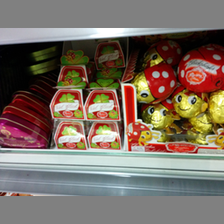chocolate: (178, 44, 224, 94), (124, 66, 174, 103), (1, 114, 49, 149), (82, 88, 122, 120), (44, 89, 88, 118), (52, 118, 86, 151), (82, 119, 120, 148), (140, 101, 177, 130), (172, 86, 205, 118), (56, 65, 88, 85)
